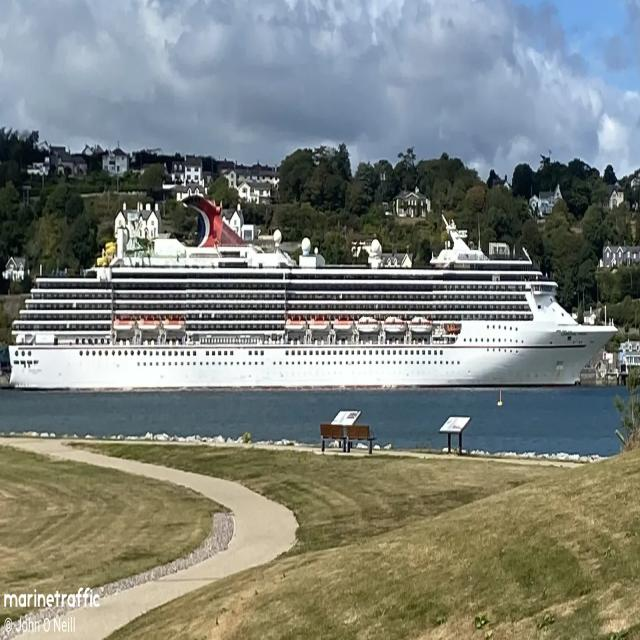Cruise: (6, 191, 619, 391)
